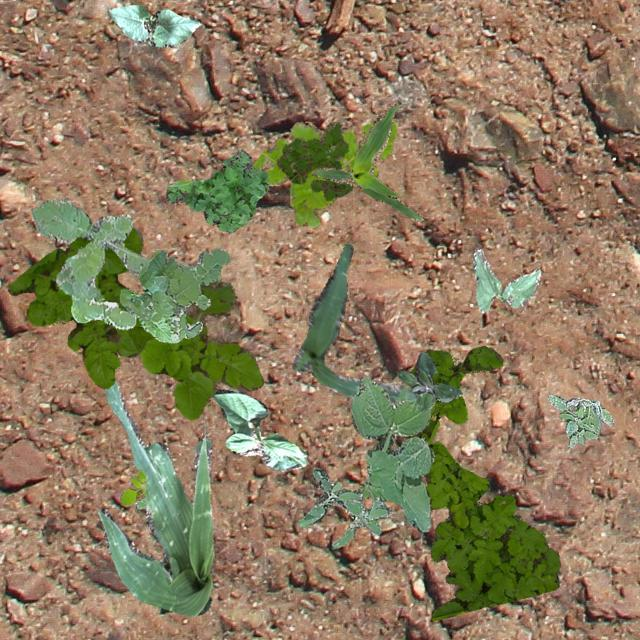crop: (96, 378, 212, 616), (292, 242, 452, 402), (310, 99, 422, 220), (212, 386, 306, 471), (472, 248, 540, 312), (106, 4, 200, 46)
weed: (6, 226, 262, 418), (402, 344, 560, 620), (252, 118, 398, 228), (30, 196, 148, 328), (349, 374, 434, 532), (120, 248, 228, 342), (165, 148, 268, 232), (298, 467, 390, 548), (276, 120, 352, 200), (396, 352, 462, 411), (546, 393, 612, 448), (120, 468, 144, 504), (134, 496, 146, 508)
